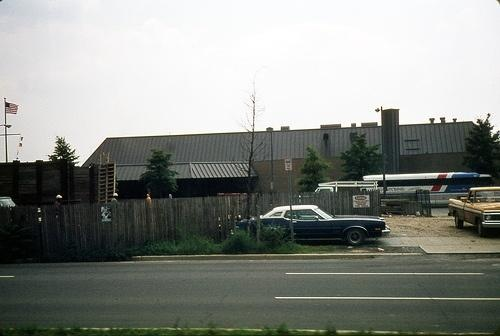bus: (365, 173, 495, 207)
car: (240, 204, 392, 247), (450, 186, 500, 237)
